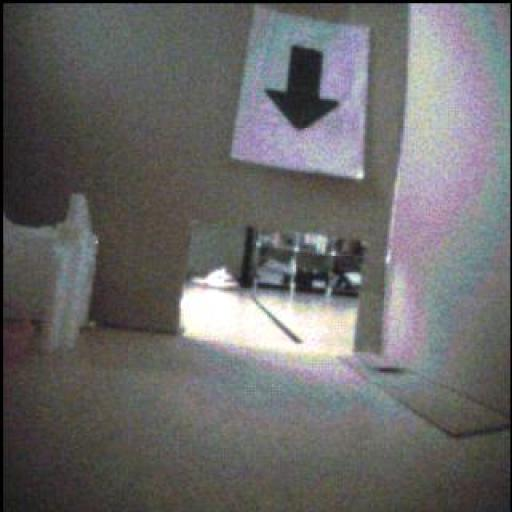arrow: (267, 48, 340, 131)
